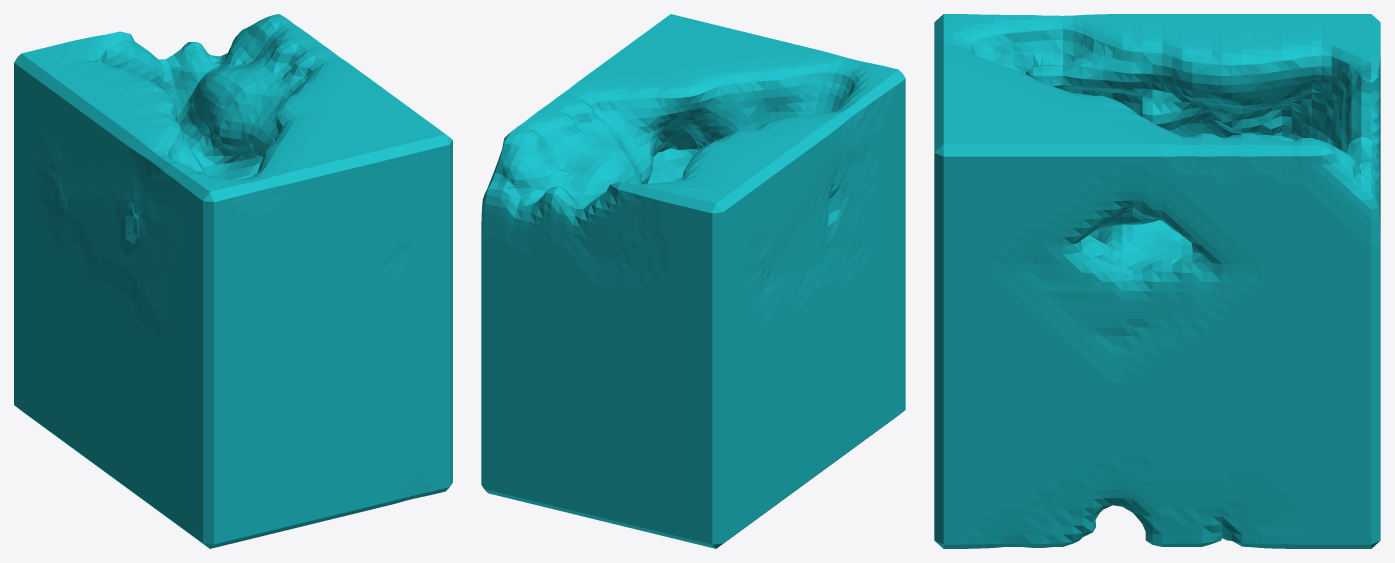
3 views of the same model, side by side, from view 1: azimuth 30°, elevation 25°; view 2: azimuth 150°, elevation 25°; view 3: azimuth 270°, elevation 25° (orthographic). The views are drawn at different scales.
Parts seen in each view (by area): view 1: Liquid_Domain; view 2: Liquid_Domain; view 3: Liquid_Domain.
Boxes of the visible parts, x1=… form: Liquid_Domain: x1=14, y1=14, x2=452, y2=548; Liquid_Domain: x1=481, y1=14, x2=905, y2=548; Liquid_Domain: x1=934, y1=14, x2=1380, y2=548.
Bounding box in the file's own units: 79.09 × 108 × 108.
